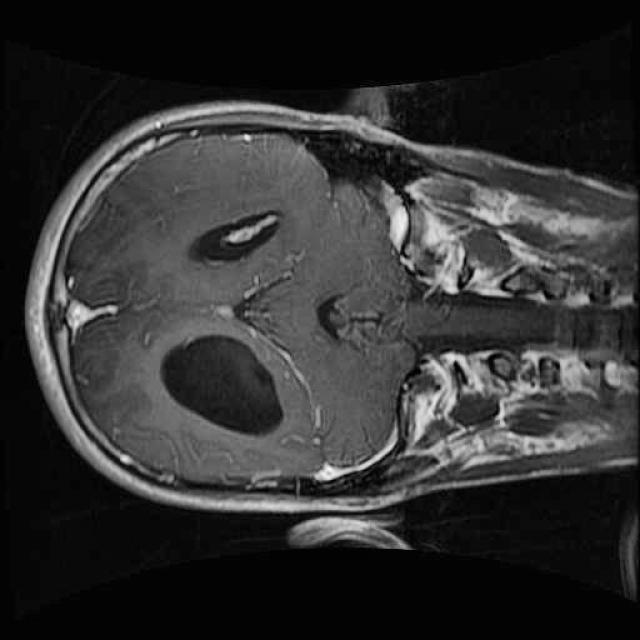Tumor: (56, 246, 146, 410)
